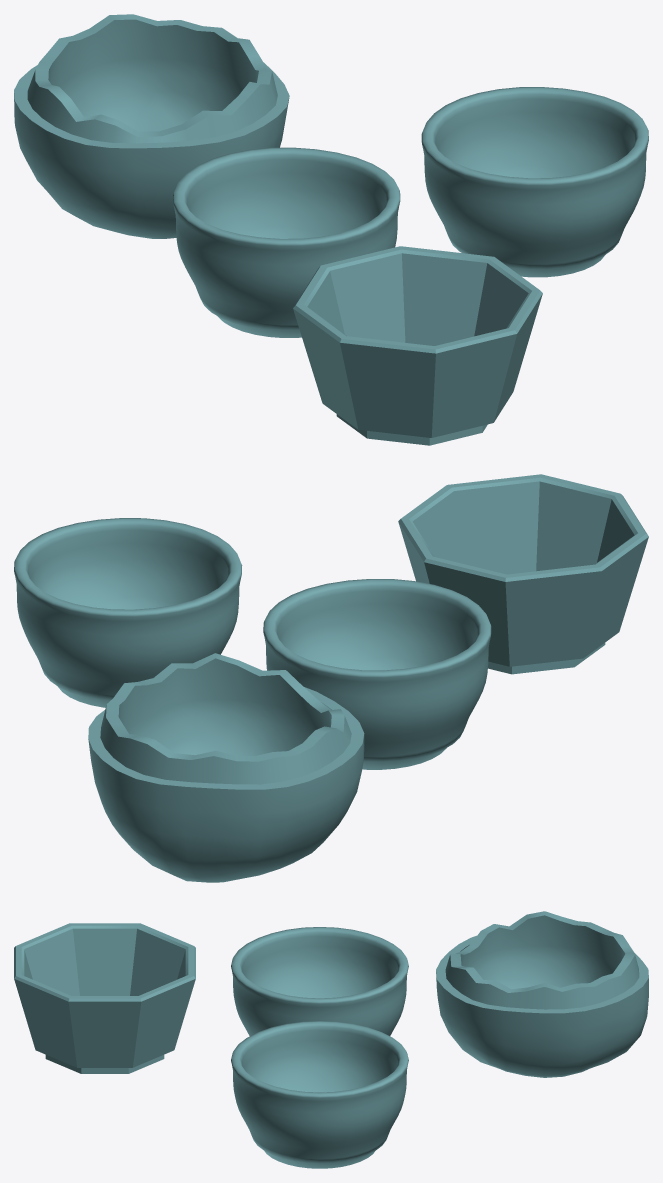
File: sm_bowls.fbx
The picture shows the model from 3 angles, top to bottom: view 1: azimuth 30°, elevation 25°; view 2: azimuth 150°, elevation 25°; view 3: azimuth 270°, elevation 25°; orthographic projection. The views are drawn at different scales.
Visible parts, largest first — view 1: SM_BOWL_ROCK, SM_BOWL_IA, SM_BOWL_G, SM_BOWL_M; view 2: SM_BOWL_ROCK, SM_BOWL_IA, SM_BOWL_G, SM_BOWL_M; view 3: SM_BOWL_ROCK, SM_BOWL_IA, SM_BOWL_G, SM_BOWL_M.
Part boxes in pixels (left/top/right/bottom): SM_BOWL_ROCK: left=14, top=14, right=289, bottom=238; SM_BOWL_IA: left=293, top=246, right=542, bottom=445; SM_BOWL_G: left=421, top=87, right=648, bottom=277; SM_BOWL_M: left=173, top=147, right=400, bottom=337; SM_BOWL_ROCK: left=88, top=653, right=364, bottom=882; SM_BOWL_IA: left=398, top=474, right=648, bottom=674; SM_BOWL_G: left=14, top=518, right=242, bottom=707; SM_BOWL_M: left=263, top=579, right=491, bottom=769; SM_BOWL_ROCK: left=436, top=911, right=648, bottom=1077; SM_BOWL_IA: left=14, top=923, right=195, bottom=1073; SM_BOWL_G: left=231, top=1021, right=408, bottom=1168; SM_BOWL_M: left=231, top=927, right=408, bottom=1035.
Bounding box in the file's own units: 47.32 × 15.99 × 73.16.
